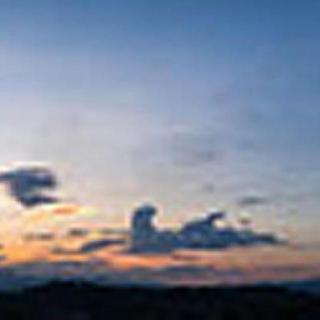Altostratus: (2, 161, 320, 279)
